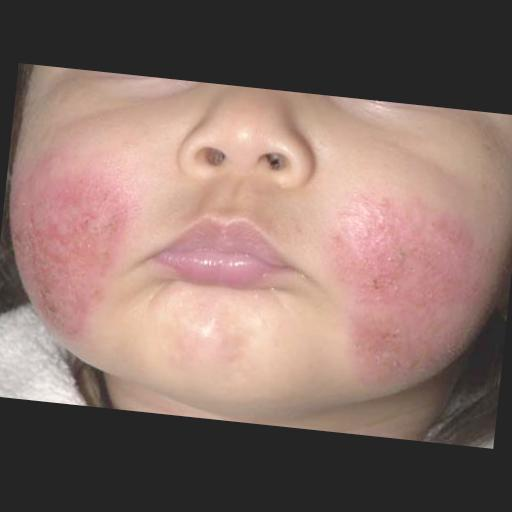Skin_Lesion: (373, 348, 422, 381), (36, 283, 66, 321), (386, 236, 414, 272), (93, 208, 118, 242), (72, 203, 90, 248), (372, 322, 406, 345), (362, 198, 388, 226), (327, 229, 348, 260), (7, 224, 28, 252), (364, 273, 387, 298), (46, 252, 72, 273), (85, 278, 106, 302), (352, 330, 372, 355), (32, 223, 62, 239), (357, 230, 375, 253), (450, 228, 466, 252), (427, 214, 444, 232), (96, 246, 115, 262)
